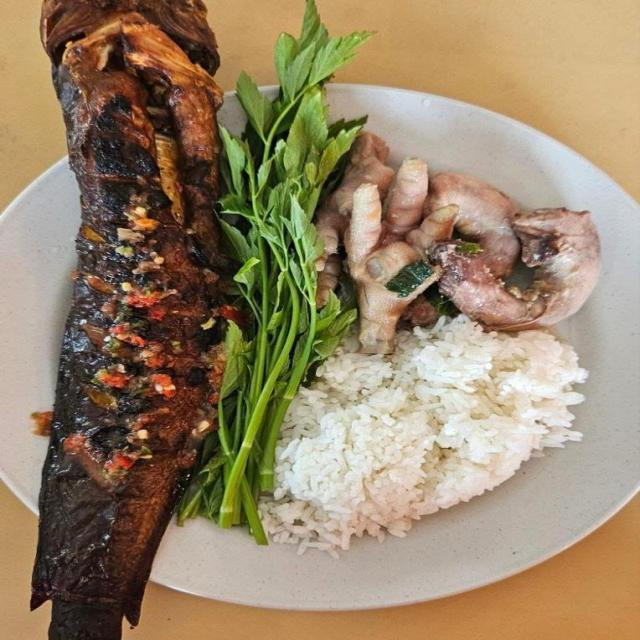Chicken: (312, 135, 605, 355)
Fish: (30, 0, 255, 639)
Plate: (152, 85, 639, 605)
Rice: (259, 312, 586, 559)
Vegetables: (170, 0, 371, 547)
